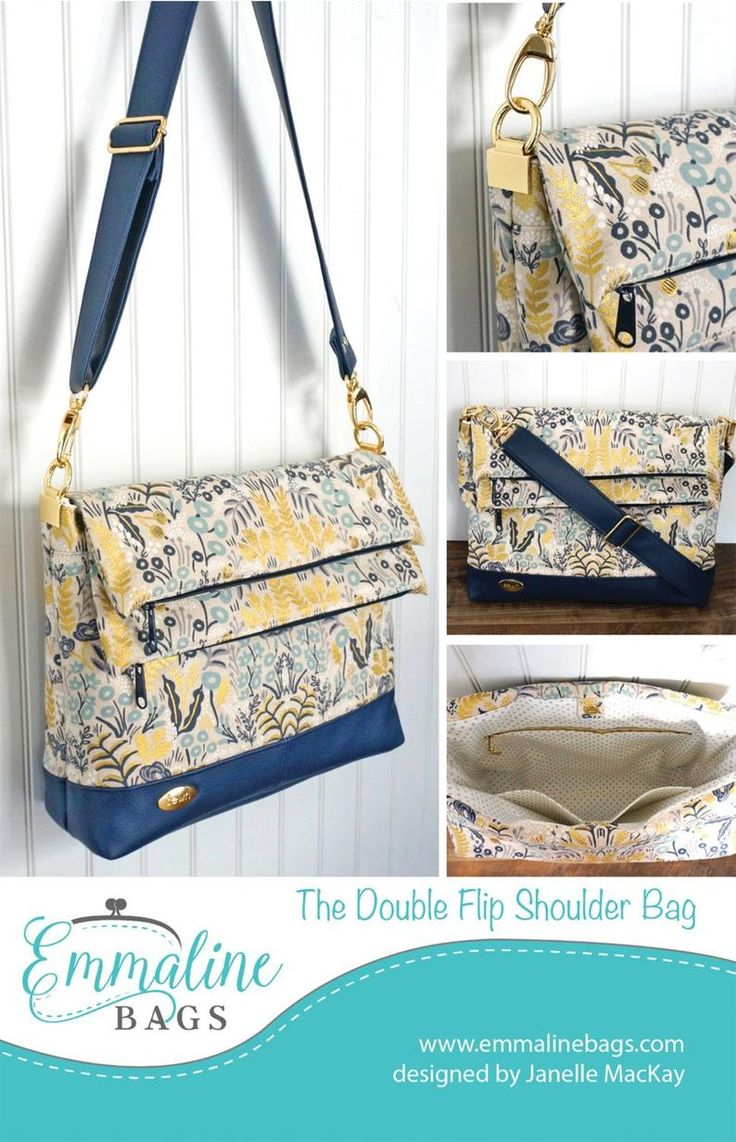nylon: (40, 99, 736, 862)
